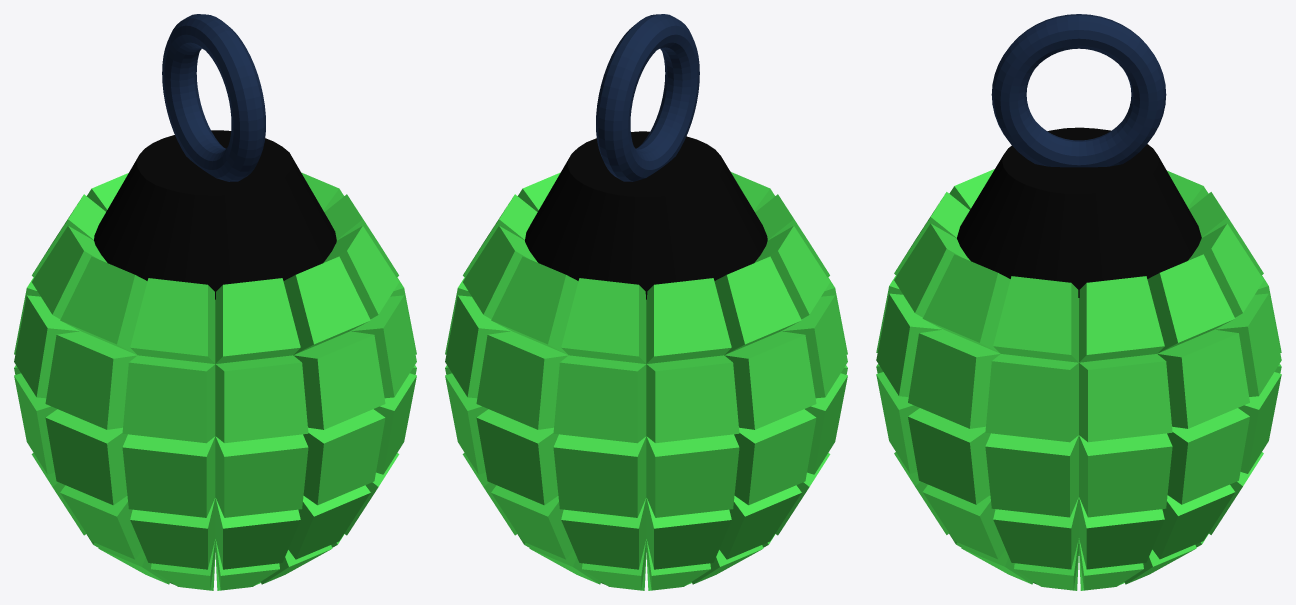
Rendered from grenade.glb.
3 views of the same model, side by side, from view 1: azimuth 30°, elevation 25°; view 2: azimuth 150°, elevation 25°; view 3: azimuth 270°, elevation 25° (orthographic).
Parts seen in each view (by area): view 1: Sphere, Cylinder.023, Torus.002; view 2: Sphere, Cylinder.023, Torus.002; view 3: Sphere, Cylinder.023, Torus.002.
Part boxes in pixels (box(x1,y1,x2,y2)): Sphere: box(14, 172, 416, 590); Cylinder.023: box(94, 130, 336, 299); Torus.002: box(162, 14, 265, 181); Sphere: box(445, 172, 847, 590); Cylinder.023: box(525, 131, 767, 299); Torus.002: box(596, 14, 699, 181); Sphere: box(876, 169, 1281, 590); Cylinder.023: box(957, 127, 1201, 297); Torus.002: box(991, 14, 1166, 167).
Bounding box in the file's own units: 1.15 × 1.74 × 1.15.
